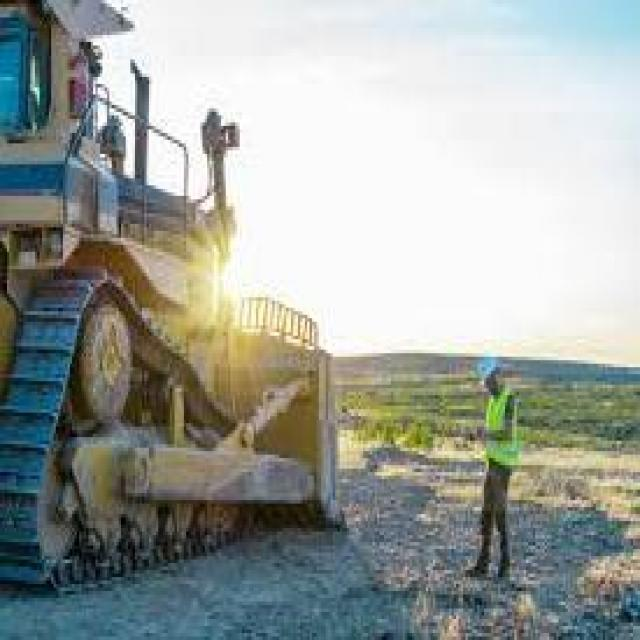Reflective-Jacket: (477, 384, 528, 476)
Safety-Helmet: (470, 349, 510, 392)
